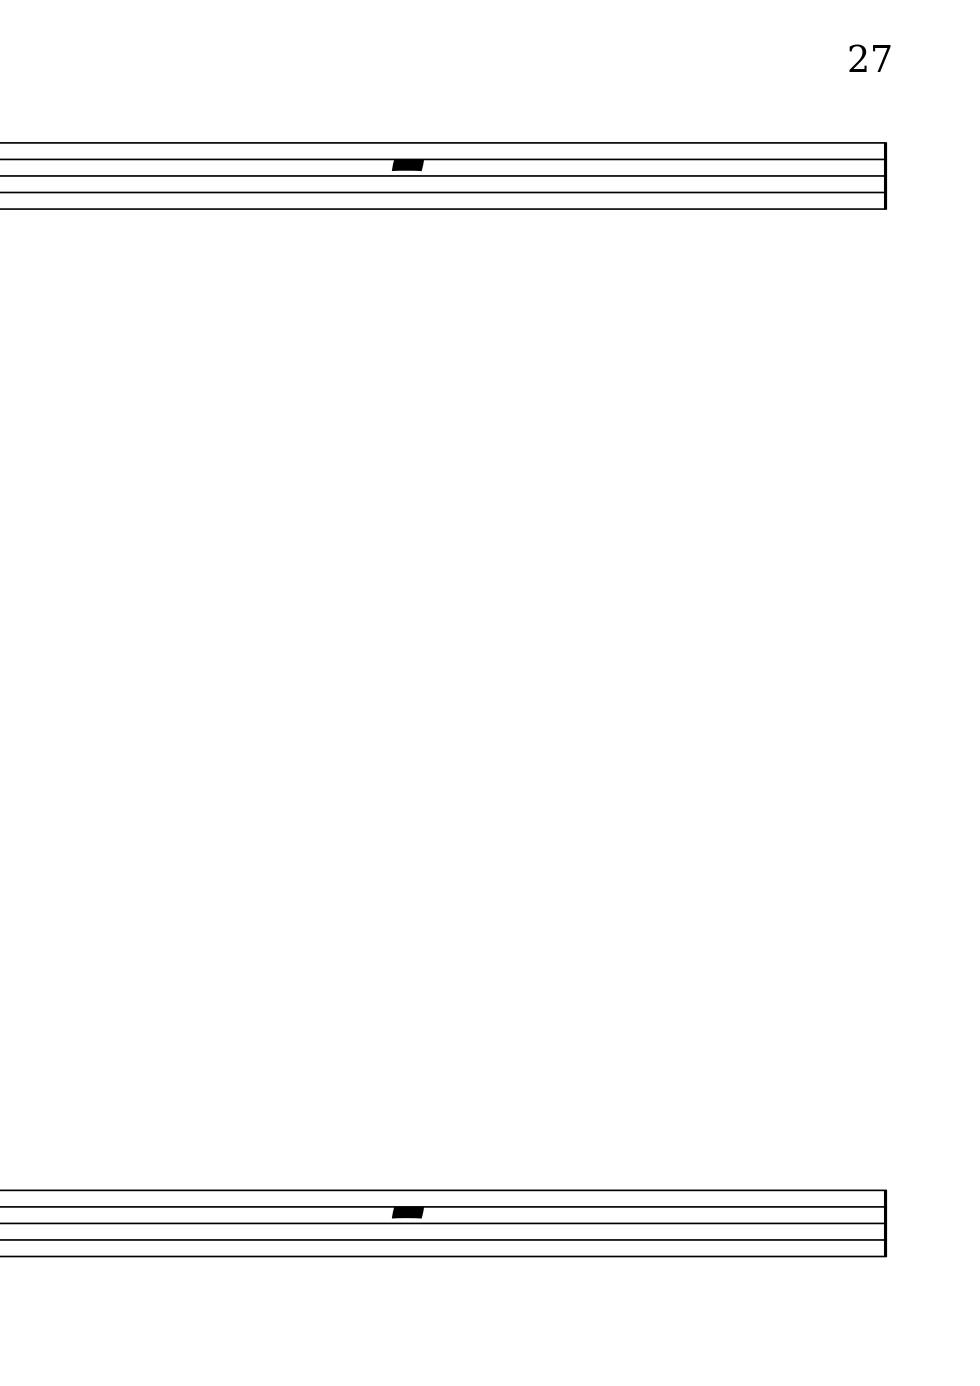2: (846, 43, 869, 74)
7: (870, 41, 892, 75)
Rests1: (386, 154, 428, 175), (386, 1201, 428, 1223)
Single_barline: (876, 142, 894, 209), (876, 1190, 893, 1257)
